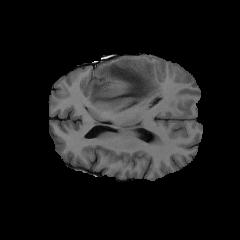glioma: (88, 57, 163, 113)
